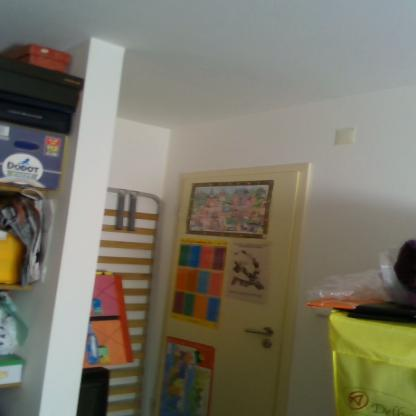door: (161, 174, 285, 416)
hinged: (151, 397, 156, 413), (178, 204, 182, 218)
lever: (244, 326, 270, 338)
